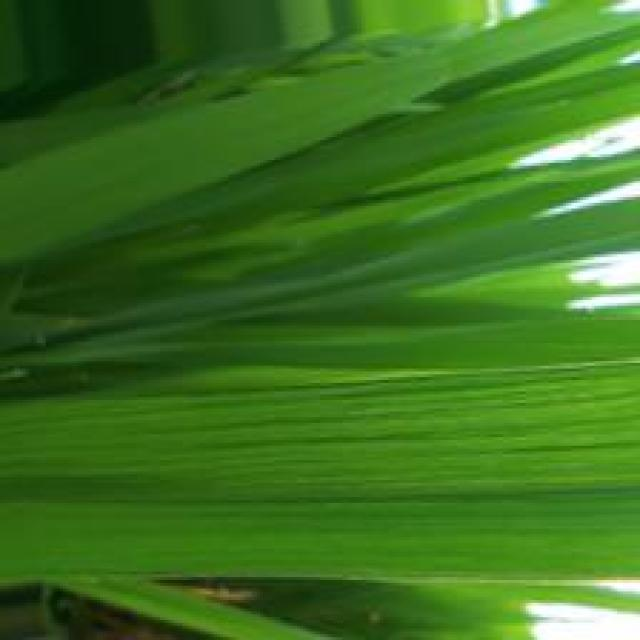HealthyLeaf: (4, 368, 639, 575)
